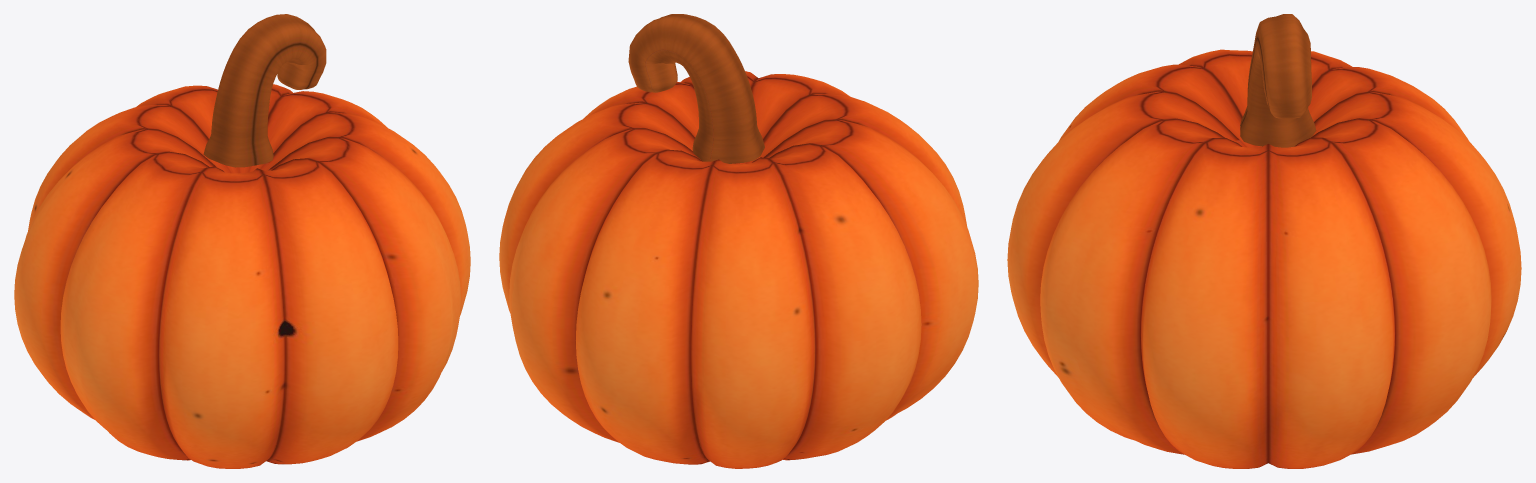
File: inflatable-pumpkin.glb
3 renders of one model, left to right at view 1: azimuth 30°, elevation 25°; view 2: azimuth 150°, elevation 25°; view 3: azimuth 270°, elevation 25°, orthographic. The views are drawn at different scales.
Parts seen in each view (by area): view 1: pumpkin; view 2: pumpkin; view 3: pumpkin.
Boxes of the visible parts, x1,y1,x2,y2 form: pumpkin: [14, 14, 470, 468]; pumpkin: [499, 14, 978, 468]; pumpkin: [1007, 14, 1521, 468].
Bounding box in the file's own units: 3.12 × 2.98 × 3.24.
Materials: 1 (1 with a texture image).
